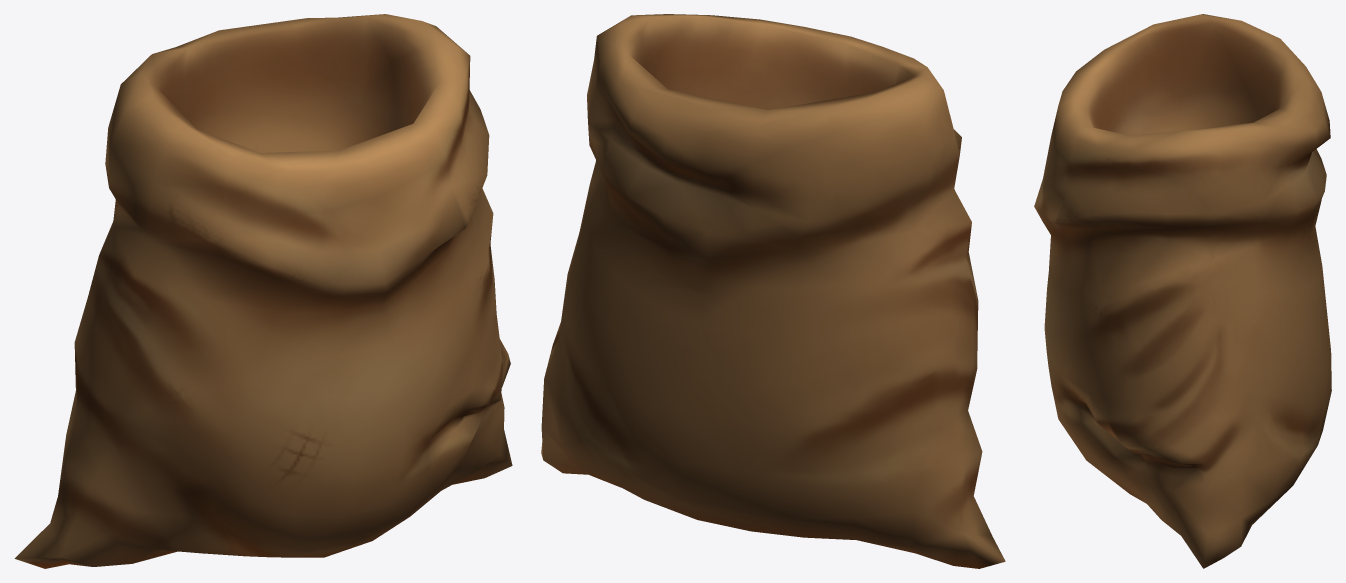
Rendered from flourbagwithoutfloor.fbx.
3 views of the same model, side by side, from view 1: azimuth 30°, elevation 25°; view 2: azimuth 150°, elevation 25°; view 3: azimuth 270°, elevation 25° (orthographic). The views are drawn at different scales.
Visible parts, largest first — view 1: flourbagwithoutfloor; view 2: flourbagwithoutfloor; view 3: flourbagwithoutfloor.
Part boxes in pixels (left/top/right/bottom): flourbagwithoutfloor: left=14, top=14, right=512, bottom=568; flourbagwithoutfloor: left=541, top=14, right=1005, bottom=568; flourbagwithoutfloor: left=1034, top=14, right=1331, bottom=568.
Size of the model in its own units: 58.12 by 53.29 by 35.51.
